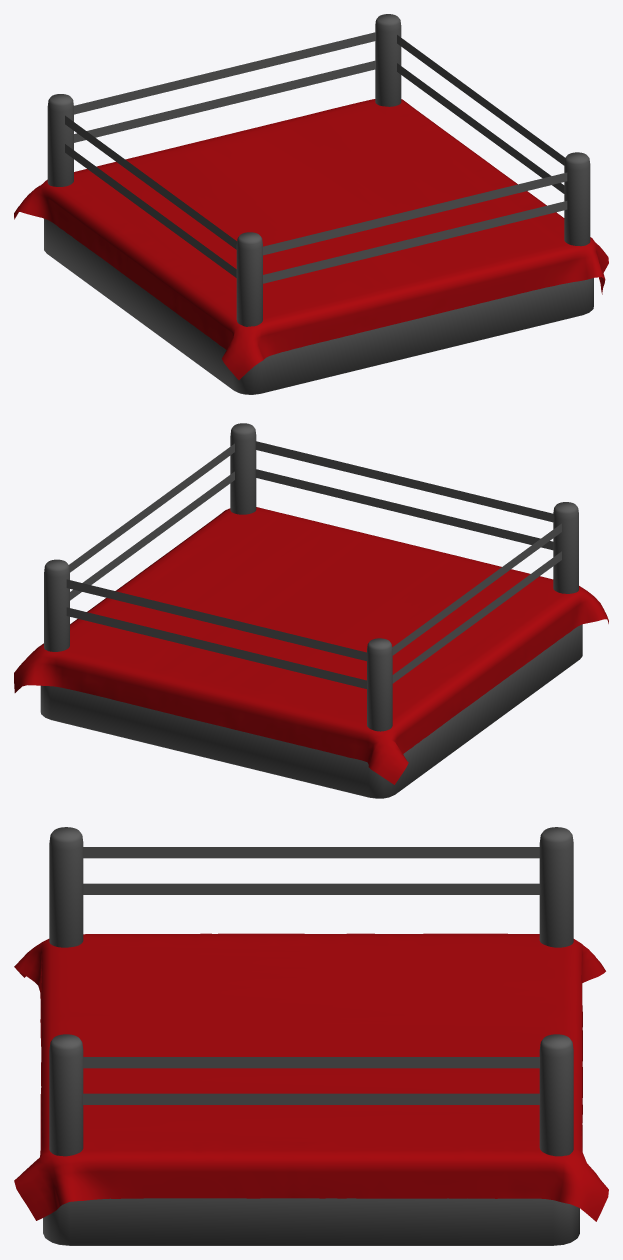
File: boxing_ring.glb
The picture shows the model from 3 angles, top to bottom: view 1: azimuth 30°, elevation 25°; view 2: azimuth 150°, elevation 25°; view 3: azimuth 270°, elevation 25°; orthographic projection. The views are drawn at different scales.
Visible parts, largest first — view 1: Plane, Cube.001, Plane.002, Cylinder, Plane.001; view 2: Plane, Cube.001, Plane.002, Cylinder, Plane.001; view 3: Plane, Cube.001, Plane.001, Cylinder.
Part boxes in pixels (x1,y1,x2,y2): Plane: (14,99,608,379); Cube.001: (44,218,593,394); Plane.002: (74,32,567,283); Cylinder: (47,14,590,326); Plane.001: (65,35,564,277); Plane: (14,507,608,784); Cube.001: (40,624,582,798); Plane.002: (66,441,553,688); Cylinder: (44,423,578,731); Plane.001: (69,443,561,683); Plane: (14,933,608,1221); Cube.001: (43,1198,579,1245); Plane.001: (83,847,539,1104); Cylinder: (49,827,573,1156).
Size of the model in its own units: 25.65 by 9.47 by 25.58.
